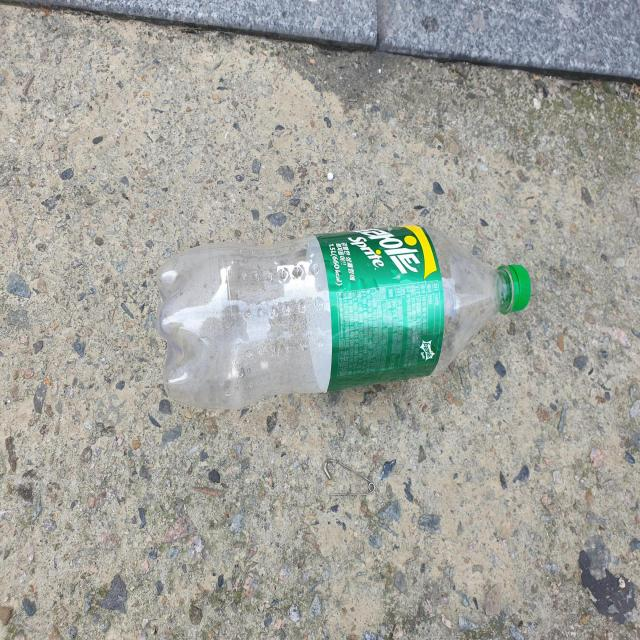plastic: (156, 224, 532, 409)
